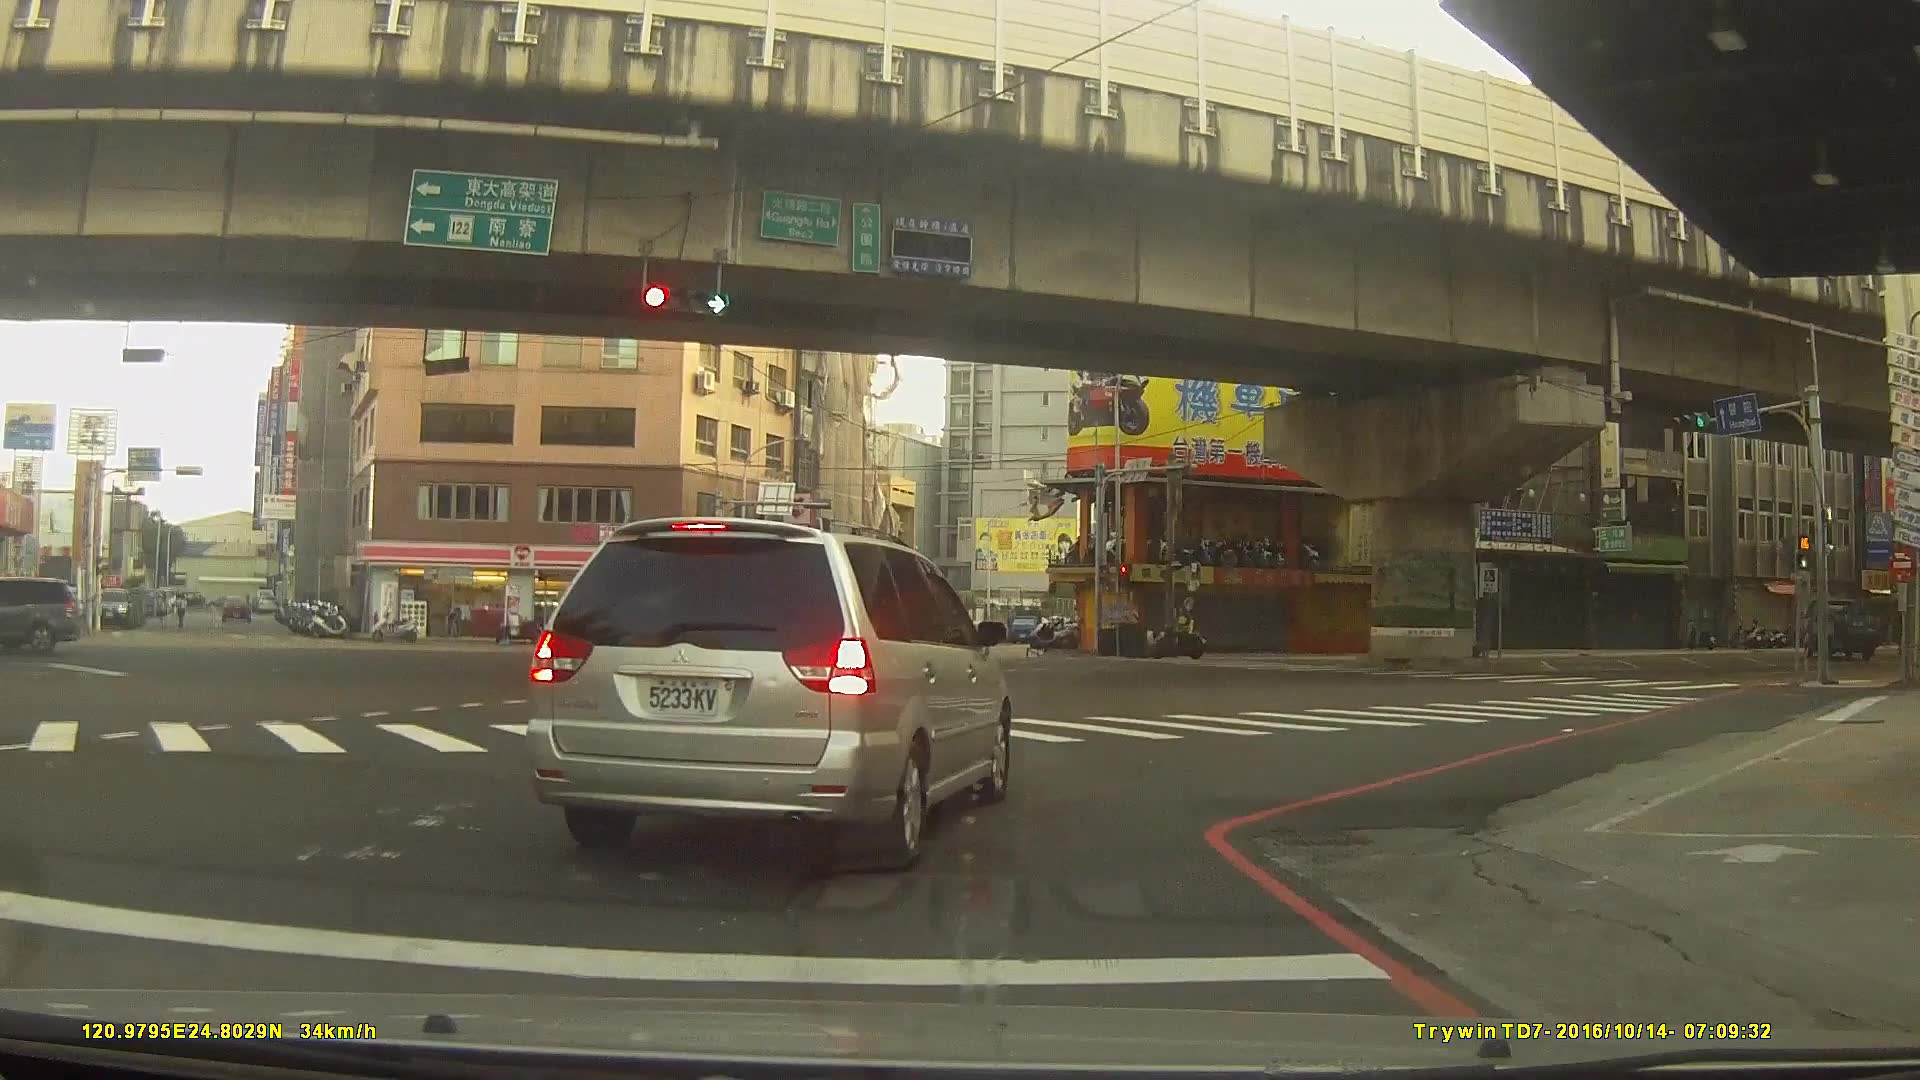rider: (1151, 603, 1208, 659)
vehicle: (521, 514, 1012, 868), (0, 573, 82, 653), (1797, 593, 1876, 658), (867, 622, 934, 660), (87, 586, 130, 631), (543, 606, 605, 633), (215, 592, 250, 623)
